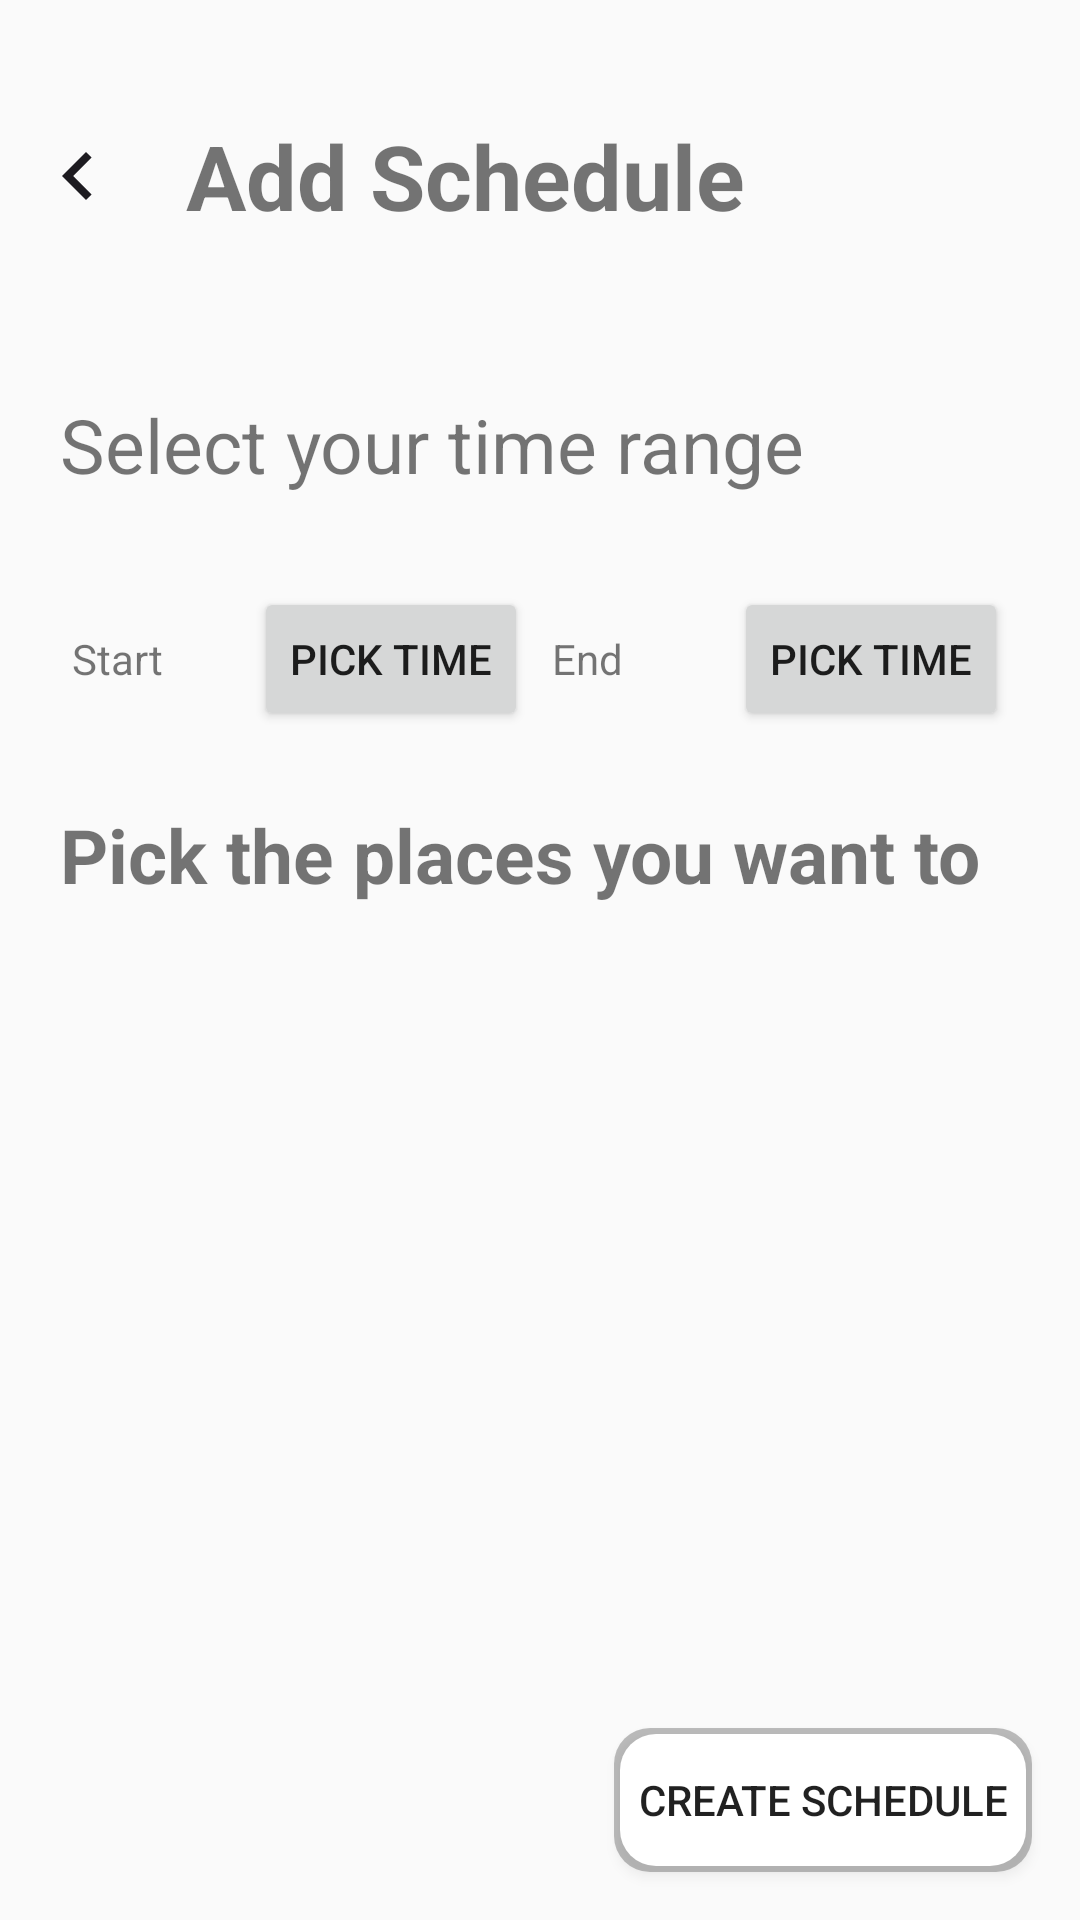

Icons on this 1080 x 1920 Android screen, each with its box as (x1, y1, x2, y2):
back: (62, 152, 92, 200)
